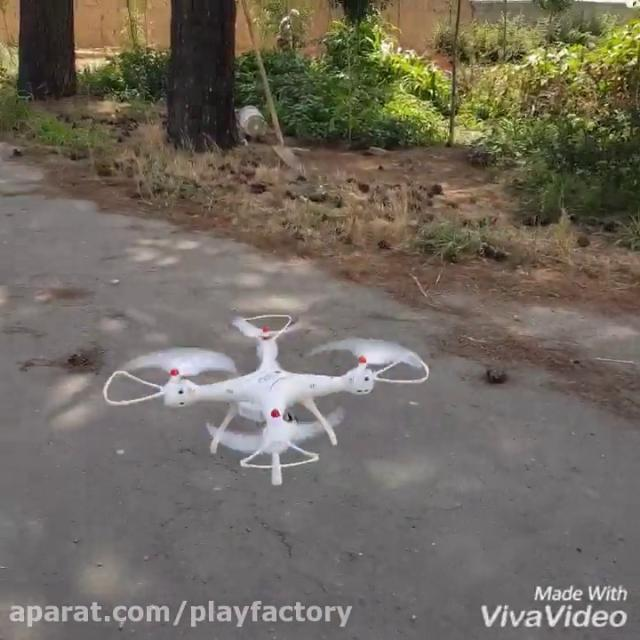drone: (100, 312, 433, 485)
